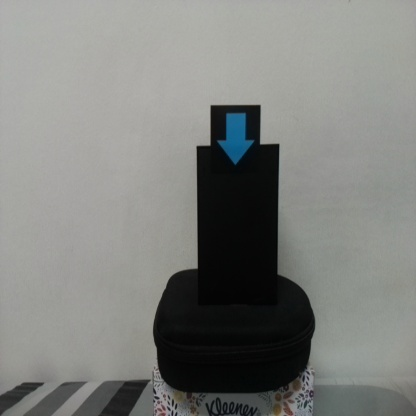id_2: (210, 106, 261, 174)
